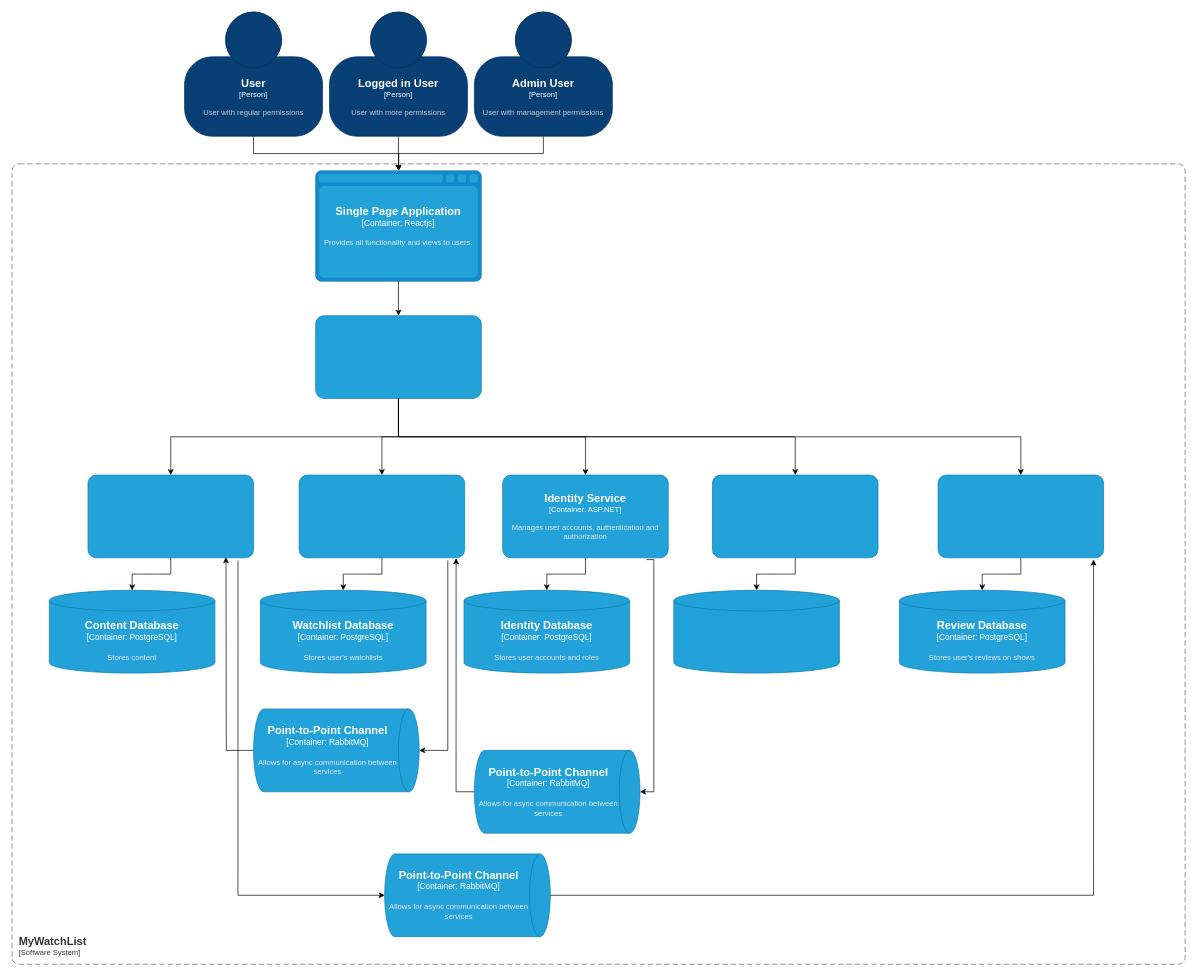
Image size: 1197x976. Some labels were removed from this diagram. Each missing label, with the centre of its shape:
API Gateway [Container: ASP.NET] Distributes requests and balances the load.: point (398, 356)
Content Service [Container: ASP.NET] Manages content such as movies, shows, etc.: point (170, 516)
Friends Database [Container: PostgreSQL] Stores user's friend connections: point (756, 631)
Friends Service [Container: ASP.NET] Manages friend connections between users: point (795, 516)
Review Service [Container: ASP.NET] Manages reviews placed by users: point (1020, 516)
Watchlist Service [Container: ASP.NET] Manages user's watchlist.: point (381, 516)
